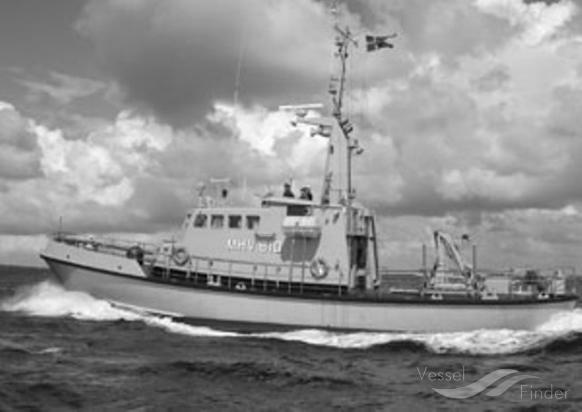OCR: (226, 234, 283, 256)
